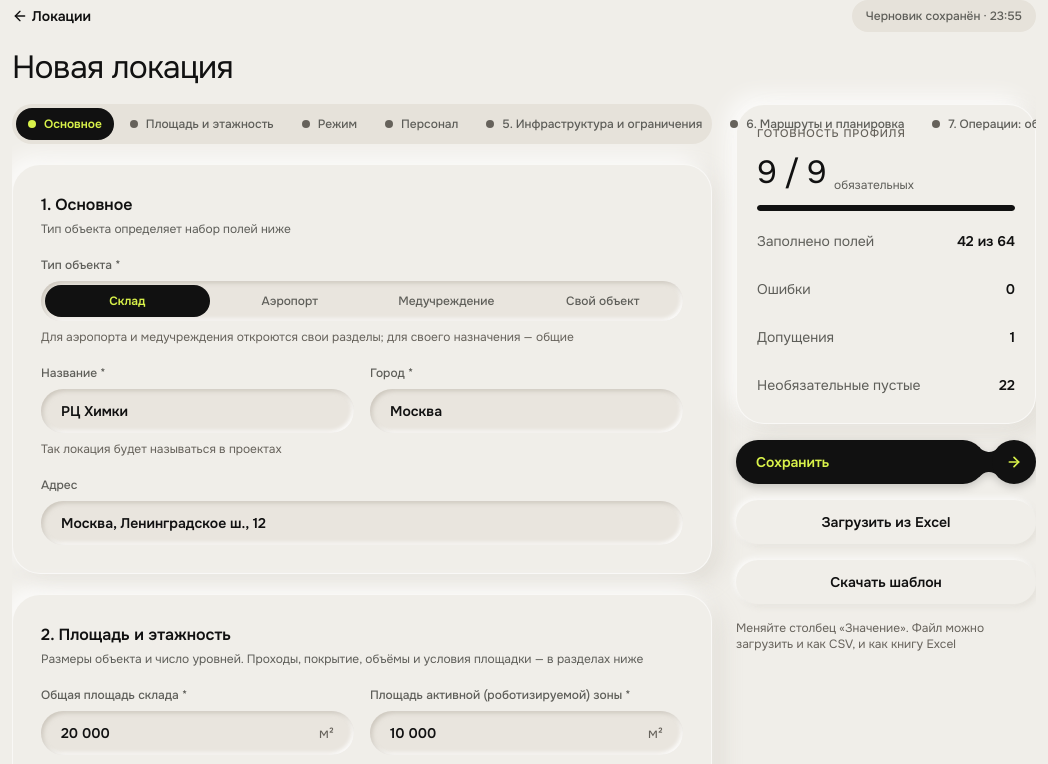
Test: LocationNewPage (экран 14) › replaces sections 2–4 with a notice for types without a drawn form (D-36)
The image size is (1048, 764).
Click the radio button labelled "Аэропорт". click: (290, 301)
box: [214,285,366,317]
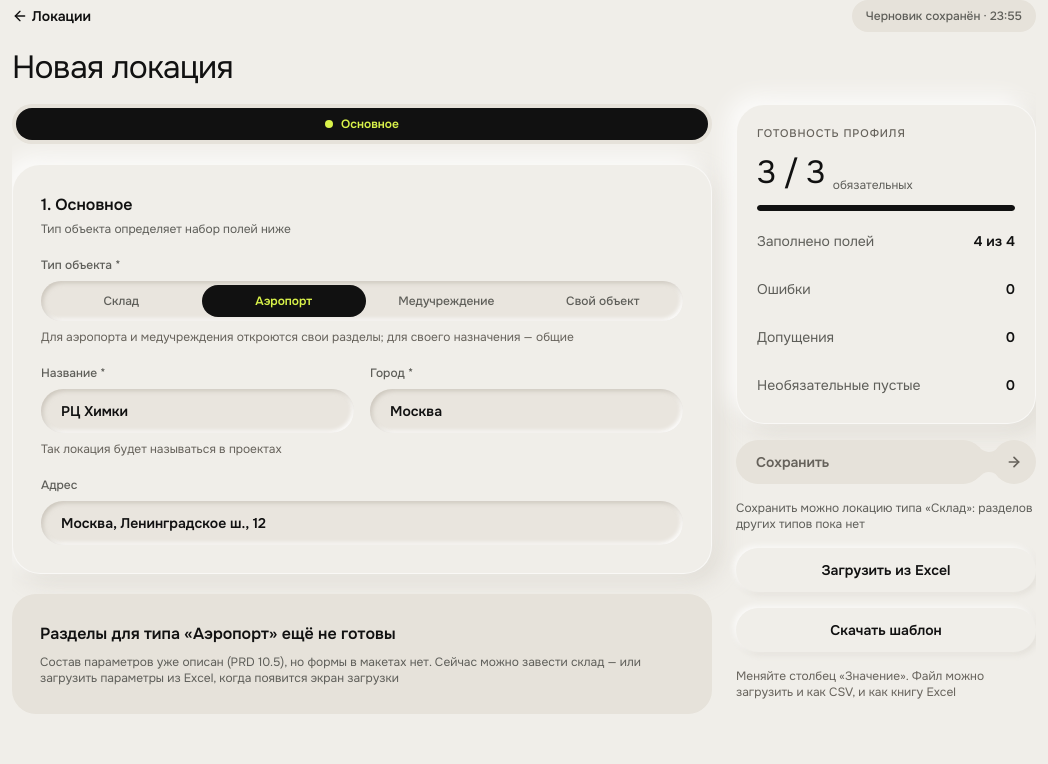
Result: the heading "Разделы для типа «Аэропорт» ещё не готовы" is shown at [40,623,396,644]
Result: the heading "2. Площадь и этажность" is gone
Result: the button "Сохранить" is disabled at [736,440,1036,484]
